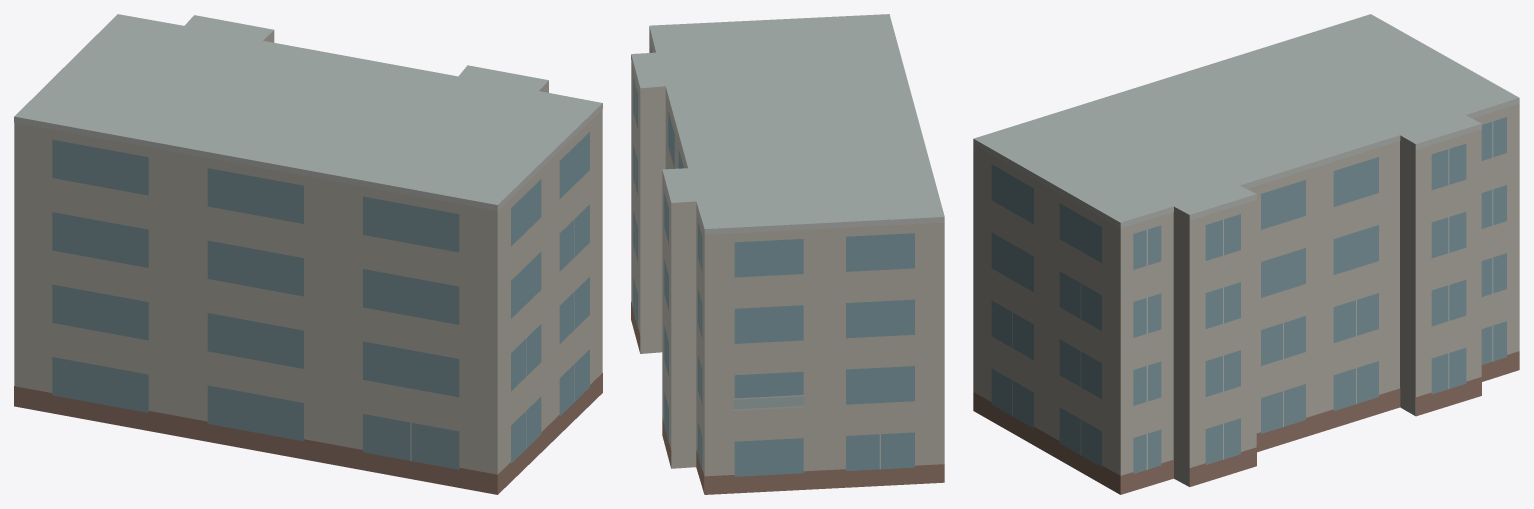
File: survey-upis-32531015.glb
3 views of the same model, side by side, from view 1: azimuth 30°, elevation 25°; view 2: azimuth 150°, elevation 25°; view 3: azimuth 270°, elevation 25° (orthographic). The views are drawn at different scales.
Parts seen in each view (by area): view 1: survey-upis-32531015.tmp; view 2: survey-upis-32531015.tmp; view 3: survey-upis-32531015.tmp.
Part boxes in pixels (x1,y1,x2,y2): survey-upis-32531015.tmp: (14, 14, 602, 494); survey-upis-32531015.tmp: (631, 14, 944, 494); survey-upis-32531015.tmp: (973, 14, 1519, 494).
Bounding box in the file's own units: 19.08 × 11.6 × 21.11.
